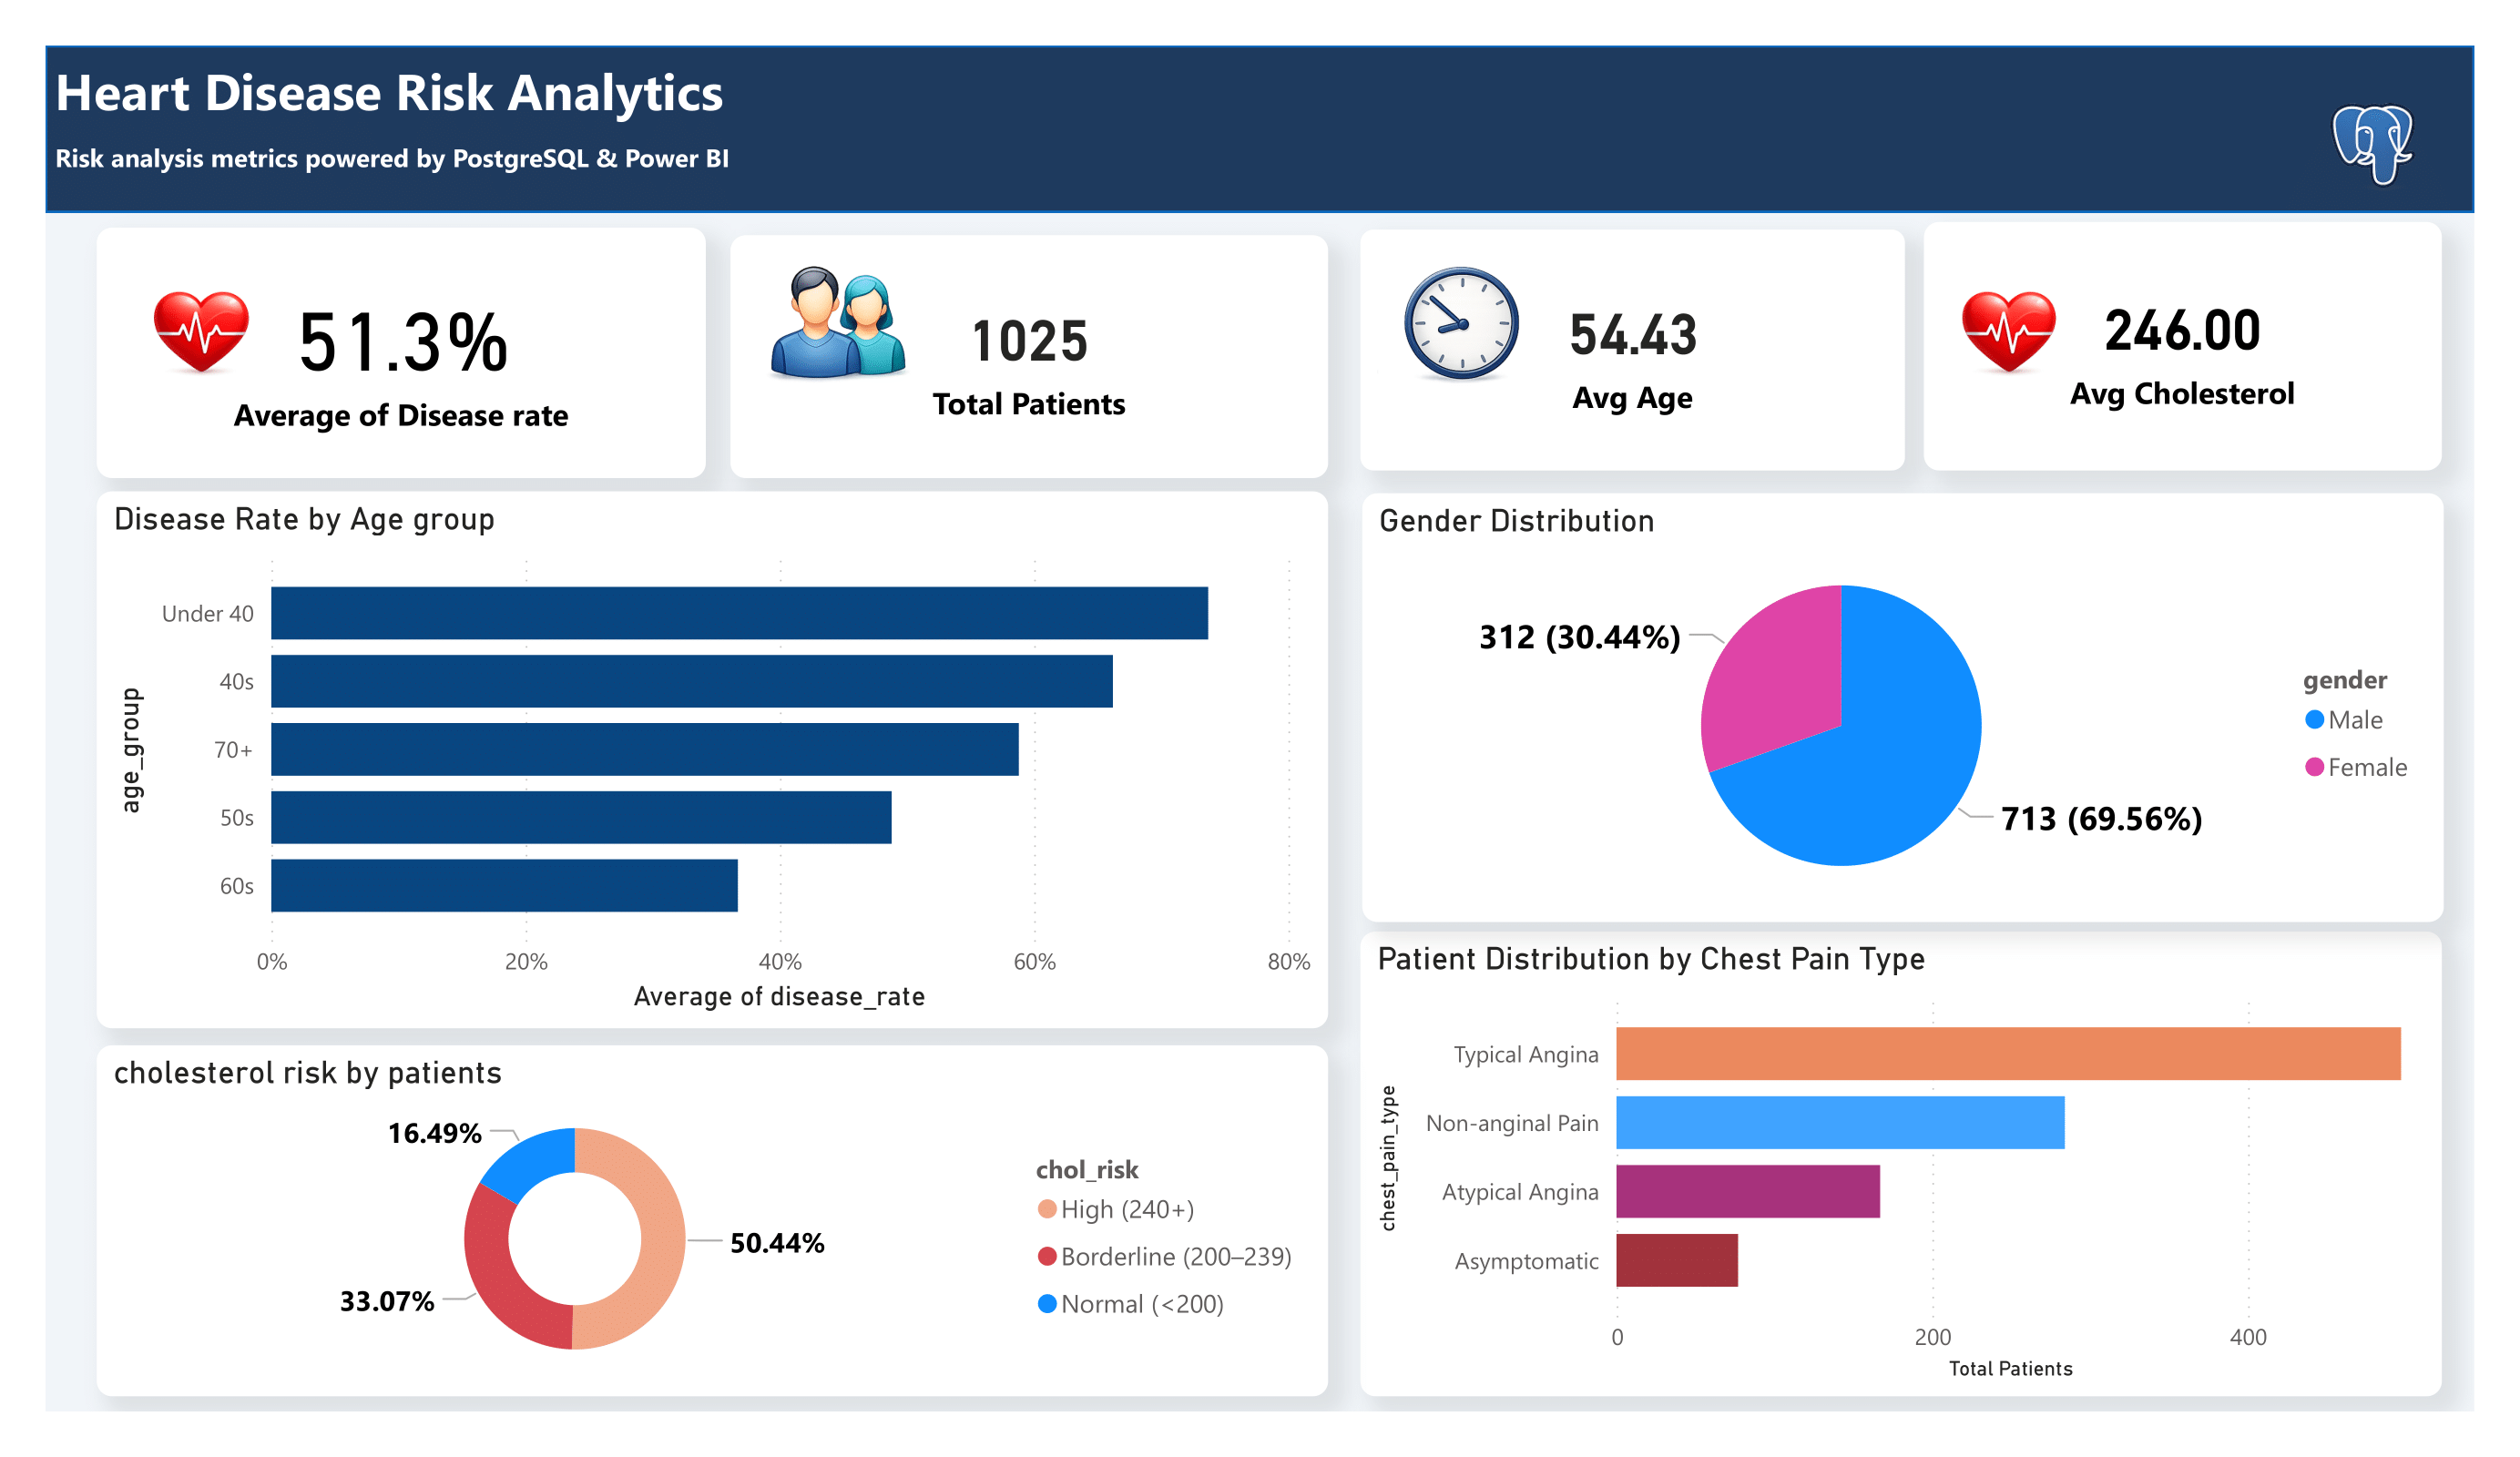

This screenshot's page, from the dashboard's own definition file:
{"tool":"powerbi","page":{"name":"Page 1","canvas":[1280,720],"ordinal":0},"visuals":[{"type":"card","fields":{"Values":["Avg(v_overall_kpi.overall_disease_rate)"]},"box":[27,96,321.3,131.6],"z":0},{"type":"card","fields":{"Values":["v_age_risk.Total Patients"]},"box":[361.2,100.3,314.9,127.2],"z":1000},{"type":"card","fields":{"Values":["heart_patient_data.Avg Age"]},"box":[693.3,96.7,286.7,127.8],"z":2000},{"type":"card","fields":{"Values":["heart_patient_data.Avg Cholesterol1"]},"box":[990,93.3,273.3,131.1],"z":3000},{"type":"clusteredBarChart","title":"Disease Rate by Age group","fields":{"Category":["v_age_risk_correct.age_group"],"Y":["Avg(v_age_risk_correct.disease_rate)"]},"box":[27,235.1,649.2,282.5],"z":4000},{"type":"clusteredBarChart","title":"Patient Distribution by Chest Pain Type","fields":{"Category":["v_cp_risk.chest_pain_type"],"Y":["v_age_risk.Total Patients"]},"box":[693.3,466.7,570,245.6],"z":5000},{"type":"shape","box":[0,0,1280,88.4],"z":6000},{"type":"textbox","box":[0,0,1211,80.7],"z":7000},{"type":"textbox","box":[0,44.7,390.7,51.5],"z":8000},{"type":"donutChart","title":"cholesterol risk by patients","fields":{"Category":["v_cholesterol_risk (2).chol_risk"],"Y":["Sum(v_cholesterol_risk (2).patients)"]},"box":[27,527.3,649.2,184.4],"z":9000},{"type":"pieChart","title":"Disease rate by gender","fields":{"Category":["v_gender_risk (2).gender"],"Y":["Sum(v_gender_risk (2).patients)"]},"box":[694.4,235.6,570,226.7],"z":10000},{"type":"image","box":[13.3,40,134.4,160],"z":11000},{"type":"image","box":[965.6,40,134.4,160],"z":12000},{"type":"image","box":[323.3,0,187.8,210],"z":13000},{"type":"image","box":[640,0,218.9,210],"z":14000},{"type":"image","box":[1171.1,0,108.9,127.8],"z":15000}]}

Visuals, with their boxes on the page's 1280x720 design canvas (x1, y1, x2, y2). These are canvas units, not pixel positions in the 2520x1457 screenshot, which may show the page scaled, cropped or inside an application window:
card - Avg(v_overall_kpi.overall_disease_rate): Rect(27, 96, 348, 228)
card - v_age_risk.Total Patients: Rect(361, 100, 676, 228)
card - heart_patient_data.Avg Age: Rect(693, 97, 980, 224)
card - heart_patient_data.Avg Cholesterol1: Rect(990, 93, 1263, 224)
"Disease Rate by Age group" clusteredBarChart: Rect(27, 235, 676, 518)
"Patient Distribution by Chest Pain Type" clusteredBarChart: Rect(693, 467, 1263, 712)
shape: Rect(0, 0, 1280, 88)
textbox: Rect(0, 0, 1211, 81)
textbox: Rect(0, 45, 391, 96)
"cholesterol risk by patients" donutChart: Rect(27, 527, 676, 712)
"Disease rate by gender" pieChart: Rect(694, 236, 1264, 462)
image: Rect(13, 40, 148, 200)
image: Rect(966, 40, 1100, 200)
image: Rect(323, 0, 511, 210)
image: Rect(640, 0, 859, 210)
image: Rect(1171, 0, 1280, 128)
